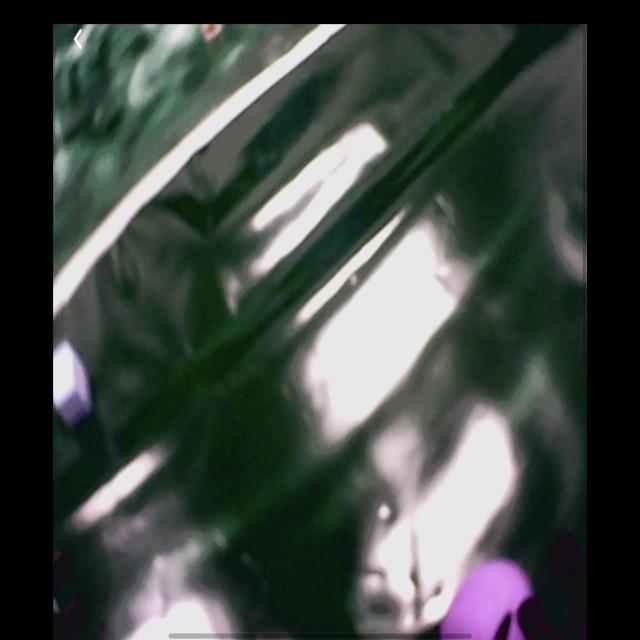ball: (443, 561, 538, 640)
